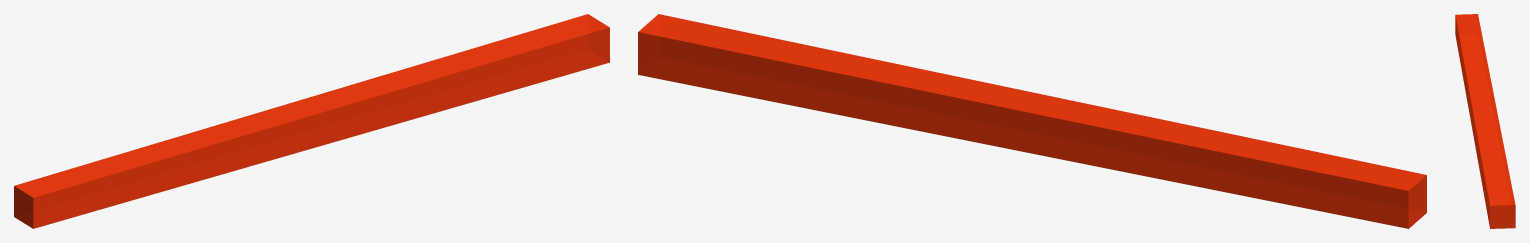
Rendered from Event_421278790_EErechit_43.fbx.
3 views of the same model, side by side, from view 1: azimuth 30°, elevation 25°; view 2: azimuth 150°, elevation 25°; view 3: azimuth 270°, elevation 25° (orthographic). The views are drawn at different scales.
Visible parts, largest first — view 1: Model; view 2: Model; view 3: Model.
Boxes of the visible parts, x1,y1,x2,y2 form: Model: [14, 14, 609, 228]; Model: [638, 14, 1426, 228]; Model: [1455, 14, 1515, 228].
Bounding box in the file's own units: 1.48 × 0.0819 × 0.1927.
